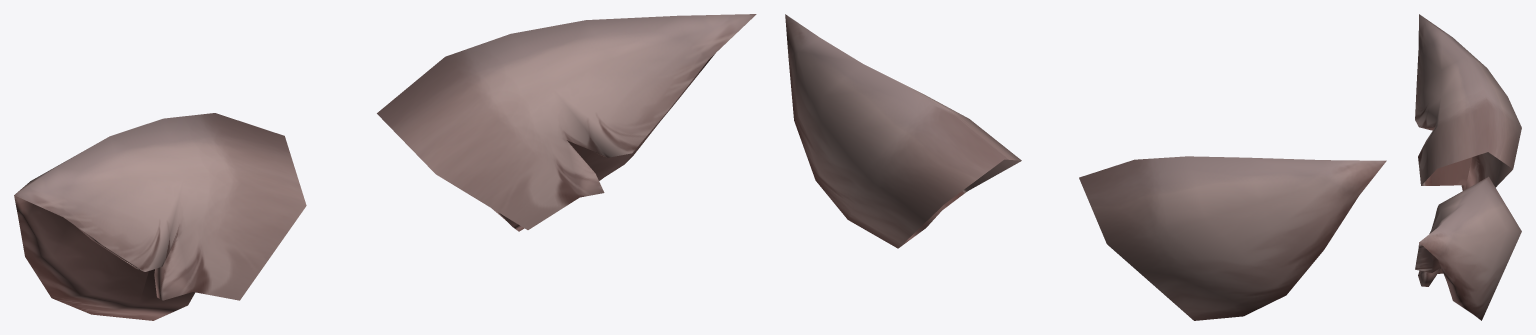
The model's file is Riko_Catears_separate.fbx.
The picture shows the model from 3 angles, left to right: view 1: azimuth 30°, elevation 25°; view 2: azimuth 150°, elevation 25°; view 3: azimuth 270°, elevation 25°; orthographic projection. The views are drawn at different scales.
Visible parts, largest first — view 1: Riko_Catears_separate; view 2: Riko_Catears_separate; view 3: Riko_Catears_separate.
Boxes of the visible parts, x1,y1,x2,y2 form: Riko_Catears_separate: (14, 14, 756, 320); Riko_Catears_separate: (785, 14, 1386, 320); Riko_Catears_separate: (1415, 14, 1521, 320).
Bounding box in the file's own units: 2.5 × 0.6677 × 0.4945.
